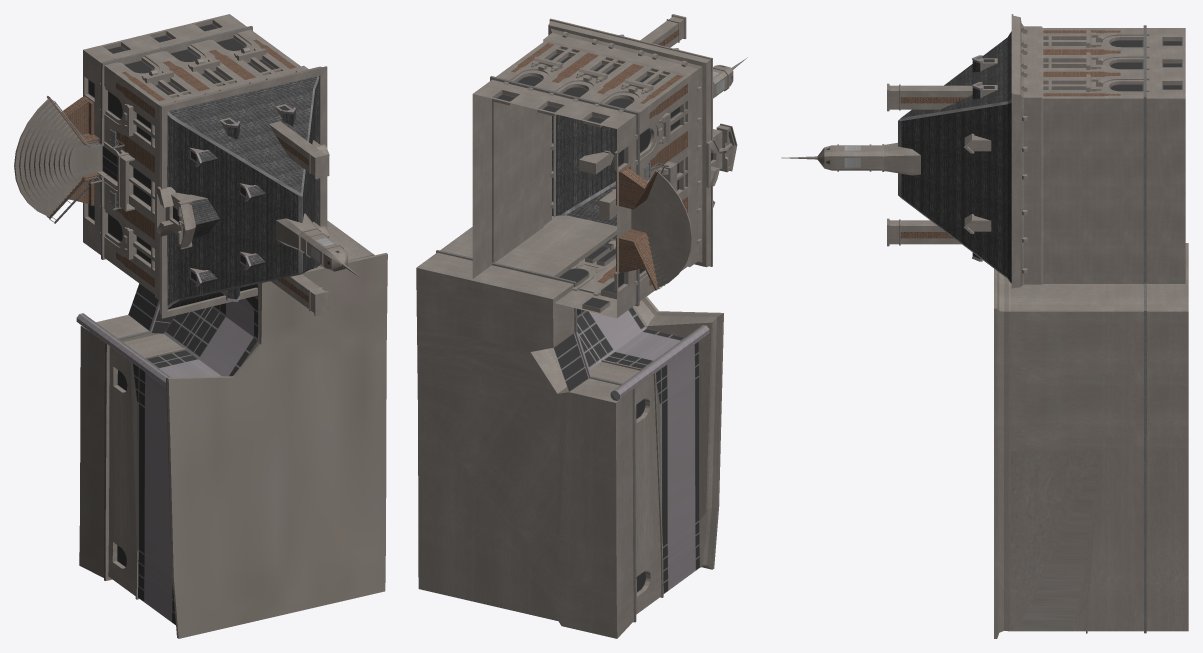
File: LEG-city_hall-2.obj
The picture shows the model from 3 angles, left to right: view 1: azimuth 30°, elevation 25°; view 2: azimuth 150°, elevation 25°; view 3: azimuth 270°, elevation 25°; orthographic projection.
Visible parts, largest first — view 1: GEO-city_hall; view 2: GEO-city_hall; view 3: GEO-city_hall.
Part boxes in pixels (<box>): GEO-city_hall: <box>14,14,387,638</box>; GEO-city_hall: <box>416,14,747,638</box>; GEO-city_hall: <box>781,14,1188,638</box>.
Bounding box in the file's own units: 22.19 × 40.16 × 28.7.
5 materials, 5 textured.
